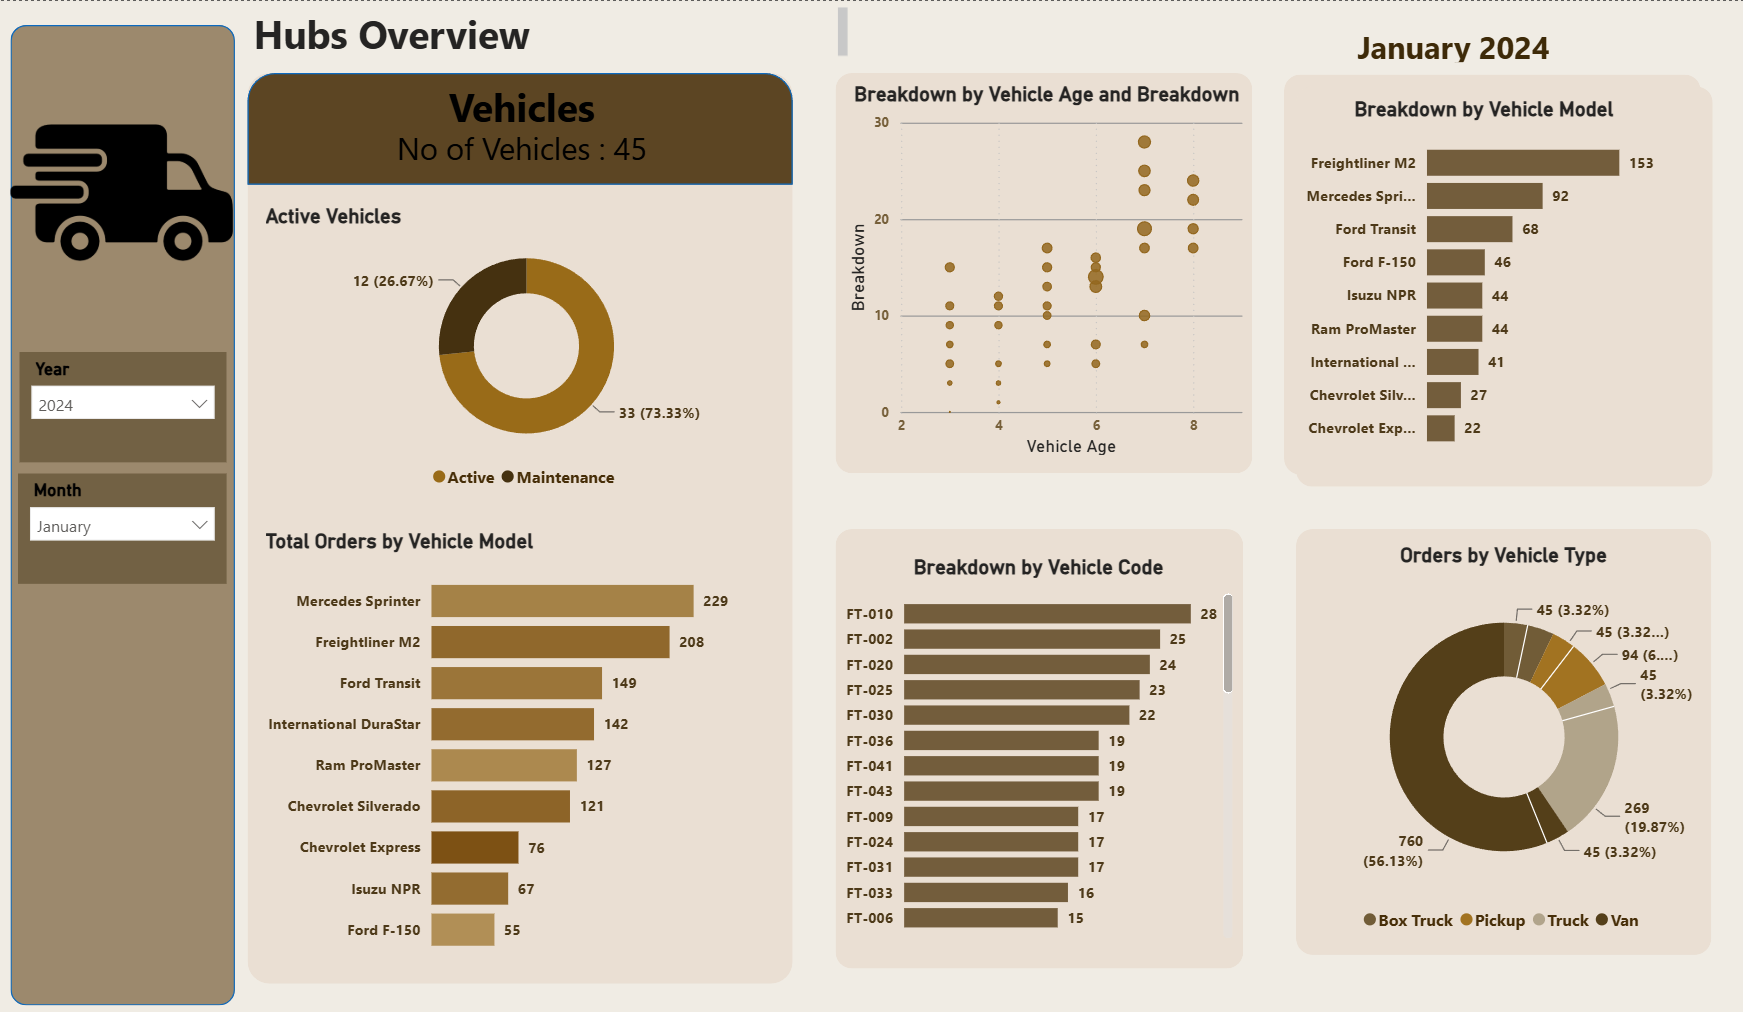

Layout of this report page (visuals, bound fields, positions):
{"tool":"powerbi","page":{"name":"Vehicles Overview","canvas":[1450,850],"ordinal":3},"visuals":[{"type":"shape","box":[11.4,20,185.7,811.4],"z":0},{"type":"textbox","box":[207.1,0,501.4,51.4],"z":1000},{"type":"slicer","fields":{"Values":["Date Table.Year"]},"box":[18.6,290,171.4,91.4],"z":2000},{"type":"slicer","fields":{"Values":["Date Table.Month"]},"box":[17.1,391.4,172.9,91.4],"z":3000},{"type":"cardVisual","fields":{"Data":["0rders.Year Month Title"]},"box":[1055.7,4.3,300,64.3],"z":4000},{"type":"shape","box":[693.8,60,345,331.2],"z":5000},{"type":"shape","box":[207.5,60,451.2,753.8],"z":6000},{"type":"shape","box":[207.5,60,451.2,92.5],"z":7000},{"type":"shape","box":[283.8,60,300,55],"z":8000},{"type":"cardVisual","fields":{"Data":["0rders.No of Vehicles."]},"box":[283.8,87.5,300,80],"z":9000},{"type":"donutChart","title":"Active Vehicles","fields":{"Category":["Vehicles.Vehicle Status"],"Y":["CountNonNull(Vehicles.Vehicle ID)"]},"box":[217.5,167.5,441.2,245],"z":10000},{"type":"barChart","fields":{"Category":["Vehicles.Vehicle Model"],"Y":["0rders.Total Orders"]},"box":[217.5,437.5,431.2,363.8],"z":11000},{"type":"shape","box":[1065,61.2,345,331.2],"z":12000},{"type":"scatterChart","title":" Breakdown by Vehicle Age and Breakdown","fields":{"X":["Vehicles.Vehicle Age"],"Y":["Vehicles.Breakdown"],"Size":["Sum(Vehicles.Breakdown)1"]},"box":[698.8,67.5,340,313.8],"z":13000},{"type":"shape","box":[693.8,437.5,337.5,363.8],"z":14000},{"type":"shape","box":[1075,437.5,343.8,352.5],"z":15000},{"type":"barChart","title":"Breakdown by Vehicle Code","fields":{"Category":["Vehicles.Vehicle Code"],"Y":["Sum(Vehicles.Breakdown)"]},"box":[696.2,457.5,331.2,322.5],"z":16000},{"type":"shape","box":[1075,71.2,345,331.2],"z":17000},{"type":"barChart","title":" Breakdown by Vehicle Model","fields":{"Category":["Vehicles.Vehicle Model"],"Y":["Sum(Vehicles.Breakdown)"]},"box":[1065.6,80,331.1,301.1],"z":18000},{"type":"donutChart","title":" Orders by Vehicle Type","fields":{"Category":["0rders.Vehicle Type"],"Y":["CountNonNull(Vehicles.Vehicle Status)","0rders.Total Orders"]},"box":[1078.8,448.8,336.2,331.2],"z":19000},{"type":"image","box":[11.4,37.1,184.3,242.9],"z":20000}]}

Visuals, with their boxes in screenshot pixels (x1, y1, x2, y2), scaled from the page's 1450x850 canvas onto the 1743x1012 screenshot:
shape: <box>14,24,237,990</box>
textbox: <box>249,0,852,61</box>
slicer - Date Table.Year: <box>22,345,228,454</box>
slicer - Date Table.Month: <box>21,466,228,575</box>
cardVisual - 0rders.Year Month Title: <box>1269,5,1630,82</box>
shape: <box>834,71,1249,466</box>
shape: <box>249,71,792,969</box>
shape: <box>249,71,792,182</box>
shape: <box>341,71,702,137</box>
cardVisual - 0rders.No of Vehicles.: <box>341,104,702,199</box>
"Active Vehicles" donutChart: <box>261,199,792,491</box>
barChart - Vehicles.Vehicle Model x 0rders.Total Orders: <box>261,521,780,954</box>
shape: <box>1280,73,1695,467</box>
" Breakdown by Vehicle Age and Breakdown" scatterChart: <box>840,80,1249,454</box>
shape: <box>834,521,1240,954</box>
shape: <box>1292,521,1705,941</box>
"Breakdown by Vehicle Code" barChart: <box>837,545,1235,929</box>
shape: <box>1292,85,1707,479</box>
" Breakdown by Vehicle Model" barChart: <box>1281,95,1679,454</box>
" Orders by Vehicle Type" donutChart: <box>1297,534,1701,929</box>
image: <box>14,44,235,333</box>
